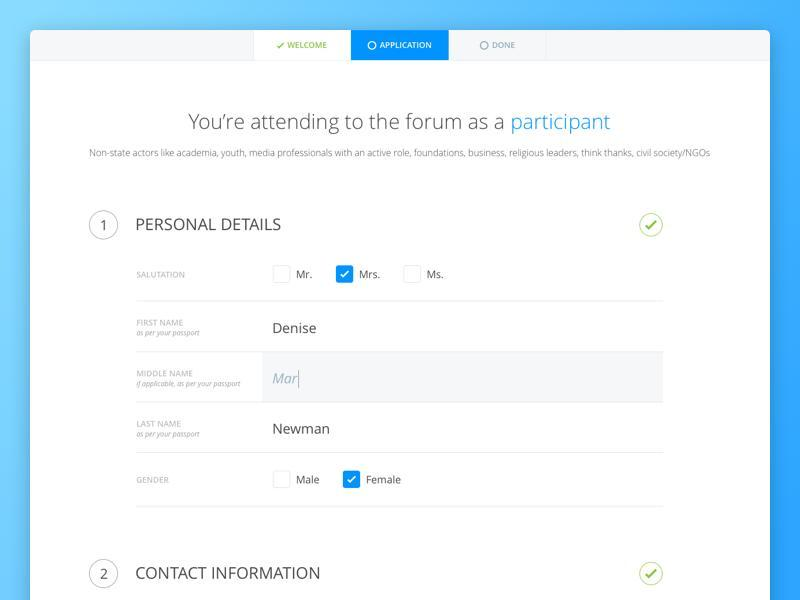checkbox: (186, 109, 619, 138), (640, 561, 664, 587), (641, 213, 662, 238), (273, 265, 293, 285), (335, 265, 355, 284), (403, 265, 423, 284), (343, 471, 362, 490), (273, 471, 292, 489)
label: (134, 562, 326, 584), (134, 217, 287, 234), (271, 421, 348, 442), (269, 321, 333, 337), (137, 368, 197, 381), (134, 268, 189, 282), (135, 318, 189, 329), (137, 419, 187, 430), (367, 474, 406, 488), (135, 475, 172, 486), (425, 267, 448, 283), (270, 374, 298, 386), (296, 474, 323, 486), (358, 269, 381, 281), (297, 270, 313, 282)
